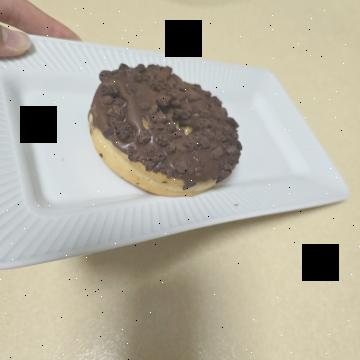doughnut: (59, 113, 207, 290)
